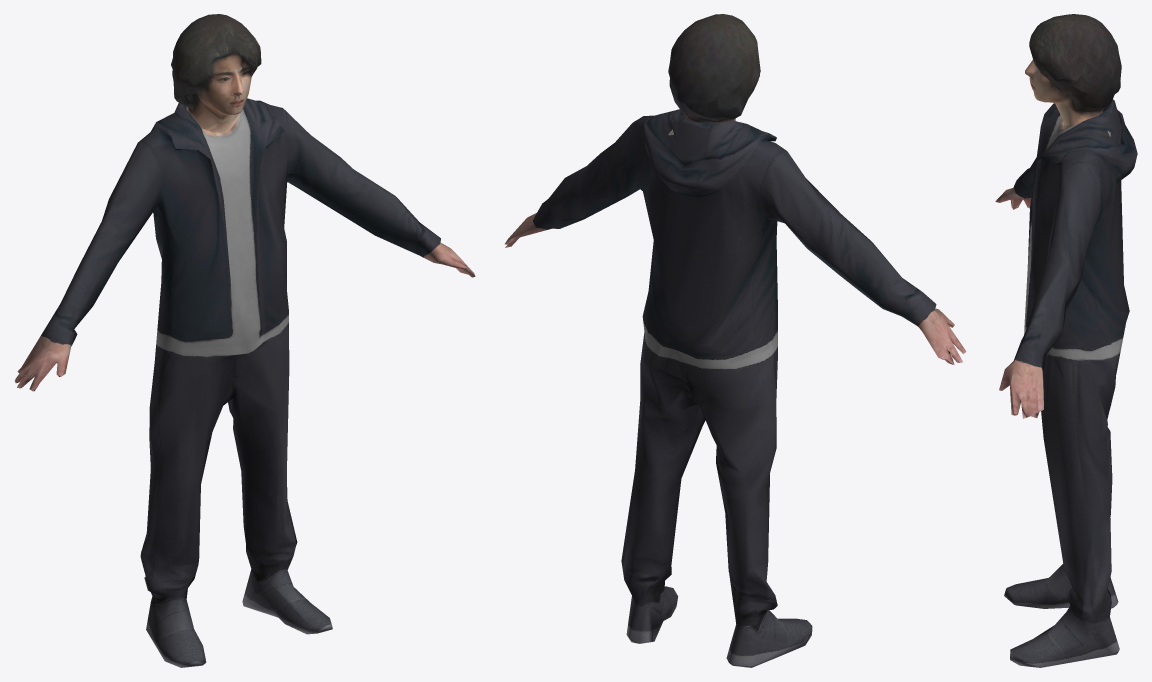
Rendered from civ1.fbx.
3 views of the same model, side by side, from view 1: azimuth 30°, elevation 25°; view 2: azimuth 150°, elevation 25°; view 3: azimuth 270°, elevation 25° (orthographic). The views are drawn at different scales.
Parts seen in each view (by area): view 1: Citizen 00amza_003; view 2: Citizen 00amza_003; view 3: Citizen 00amza_003.
Part boxes in pixels (<box>): Citizen 00amza_003: <box>14,14,475,667</box>; Citizen 00amza_003: <box>505,14,966,667</box>; Citizen 00amza_003: <box>995,14,1137,667</box>.
Bounding box in the file's own units: 145 × 190 × 40.1.
